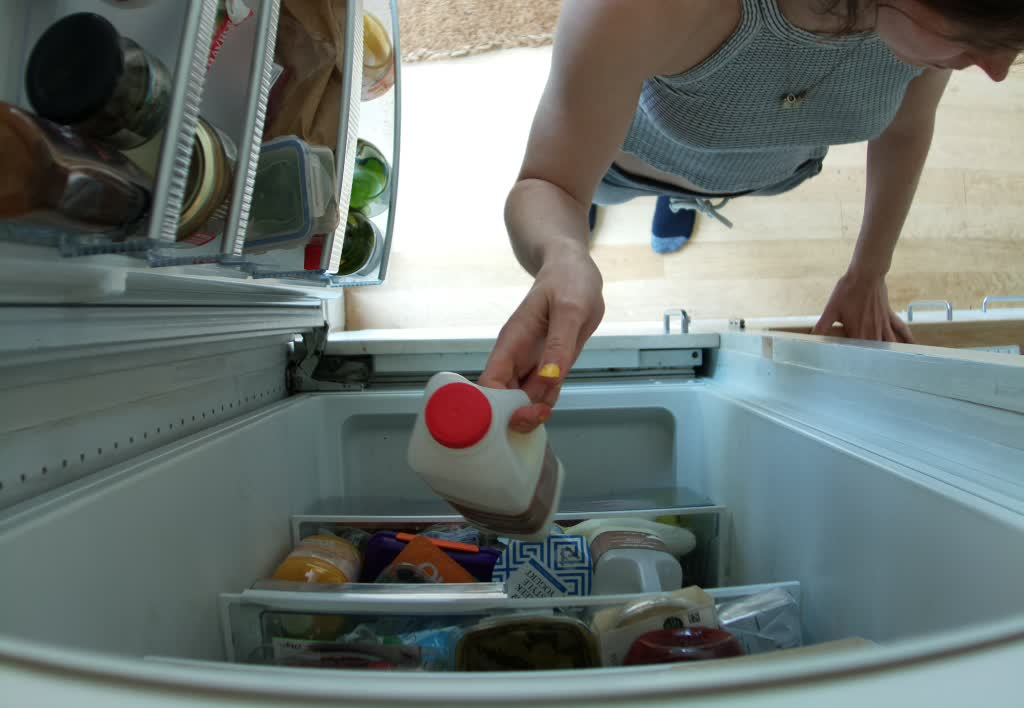milk: (408, 366, 573, 540)
